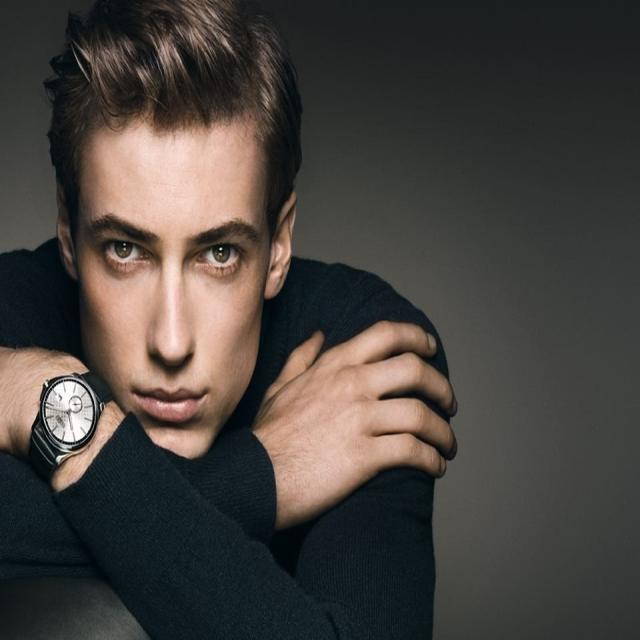human: (0, 1, 465, 640)
